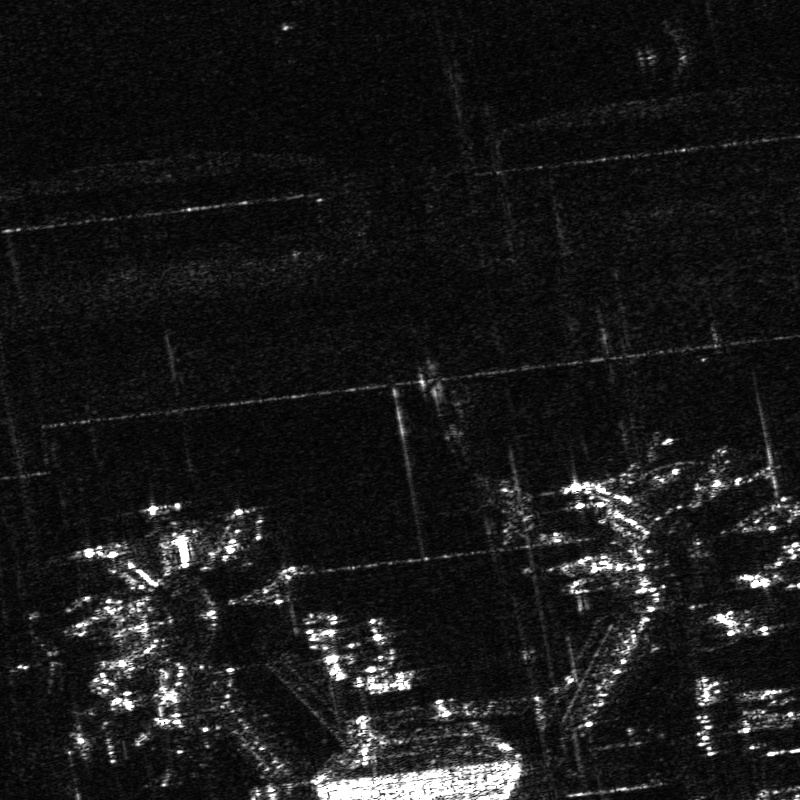A220: (3, 627, 74, 695)
